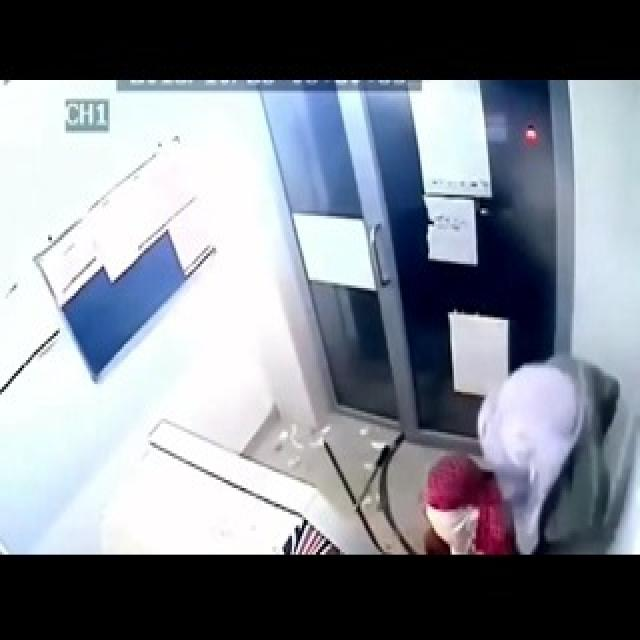thief: (427, 371, 600, 544)
